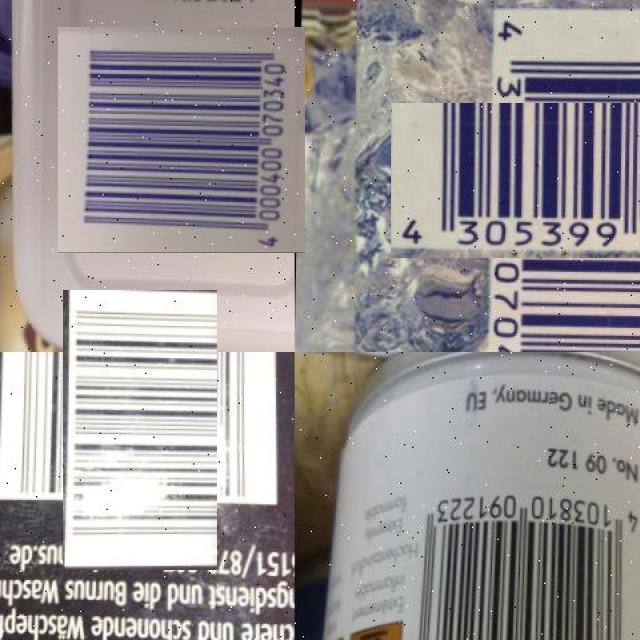Barcode: (64, 22, 300, 258), (438, 56, 640, 306), (31, 321, 249, 538), (404, 484, 640, 640)
